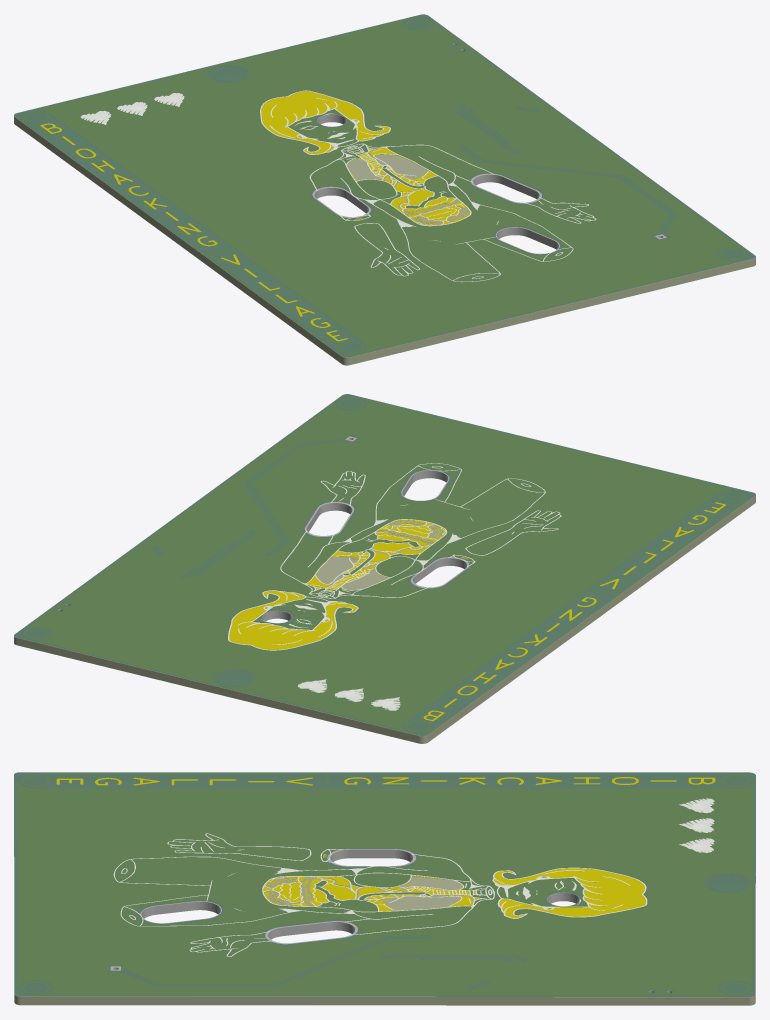
Rendered from biohacking-village-badge-dc30.glb.
The picture shows the model from 3 angles, top to bottom: view 1: azimuth 30°, elevation 25°; view 2: azimuth 150°, elevation 25°; view 3: azimuth 270°, elevation 25°; orthographic projection. The views are drawn at different scales.
Parts seen in each view (by area): view 1: =>[0:1:1:7], =>[0:1:1:2], =>[0:1:1:9], =>[0:1:1:5]; view 2: =>[0:1:1:7], =>[0:1:1:2], =>[0:1:1:9], =>[0:1:1:5]; view 3: =>[0:1:1:7], =>[0:1:1:2], =>[0:1:1:9], =>[0:1:1:5].
Boxes of the visible parts, bbox=[...] form: =>[0:1:1:7]: bbox=[14, 14, 755, 365]; =>[0:1:1:2]: bbox=[23, 19, 745, 352]; =>[0:1:1:9]: bbox=[14, 15, 755, 365]; =>[0:1:1:5]: bbox=[80, 90, 596, 282]; =>[0:1:1:7]: bbox=[14, 394, 755, 743]; =>[0:1:1:2]: bbox=[24, 399, 744, 731]; =>[0:1:1:9]: bbox=[14, 395, 755, 743]; =>[0:1:1:5]: bbox=[228, 463, 561, 710]; =>[0:1:1:7]: bbox=[14, 772, 755, 1005]; =>[0:1:1:2]: bbox=[17, 774, 752, 995]; =>[0:1:1:9]: bbox=[14, 773, 755, 1005]; =>[0:1:1:5]: bbox=[113, 798, 714, 956].
Size of the model in its own units: 0.0895 by 0.00166 by 0.1249.
Materials: 4 (4 with a texture image).
